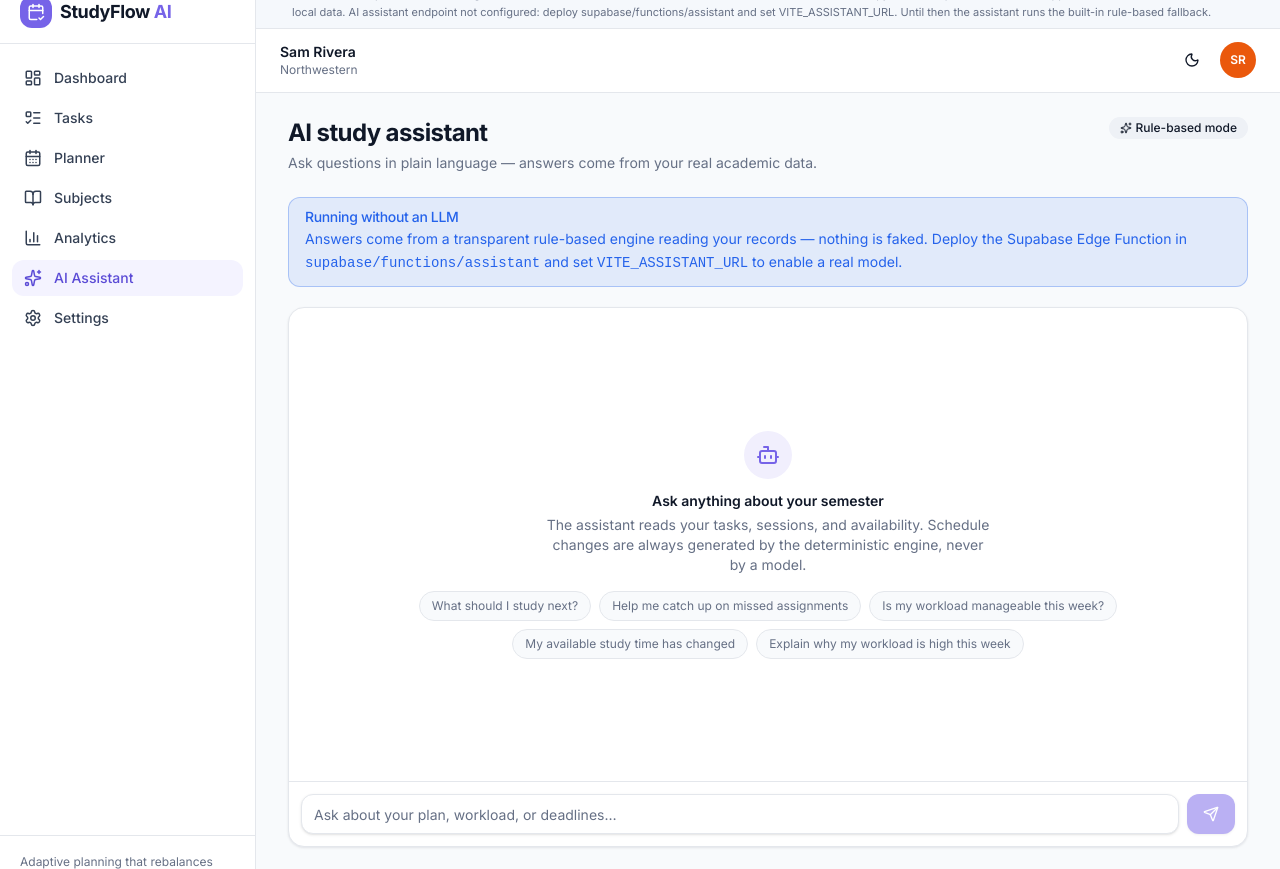
Test: modes and resilience › scenario 16a: the assistant falls back to rule-based answers when no AI endpoint is configured
This screenshot has width=1280, height=869.
Check: the text "Rule-based mode" is shown, box [1108,117,1248,139]
In the field named "Message the assistant": [740, 814] box [301,794,1179,834], type "How is my workload this week?"
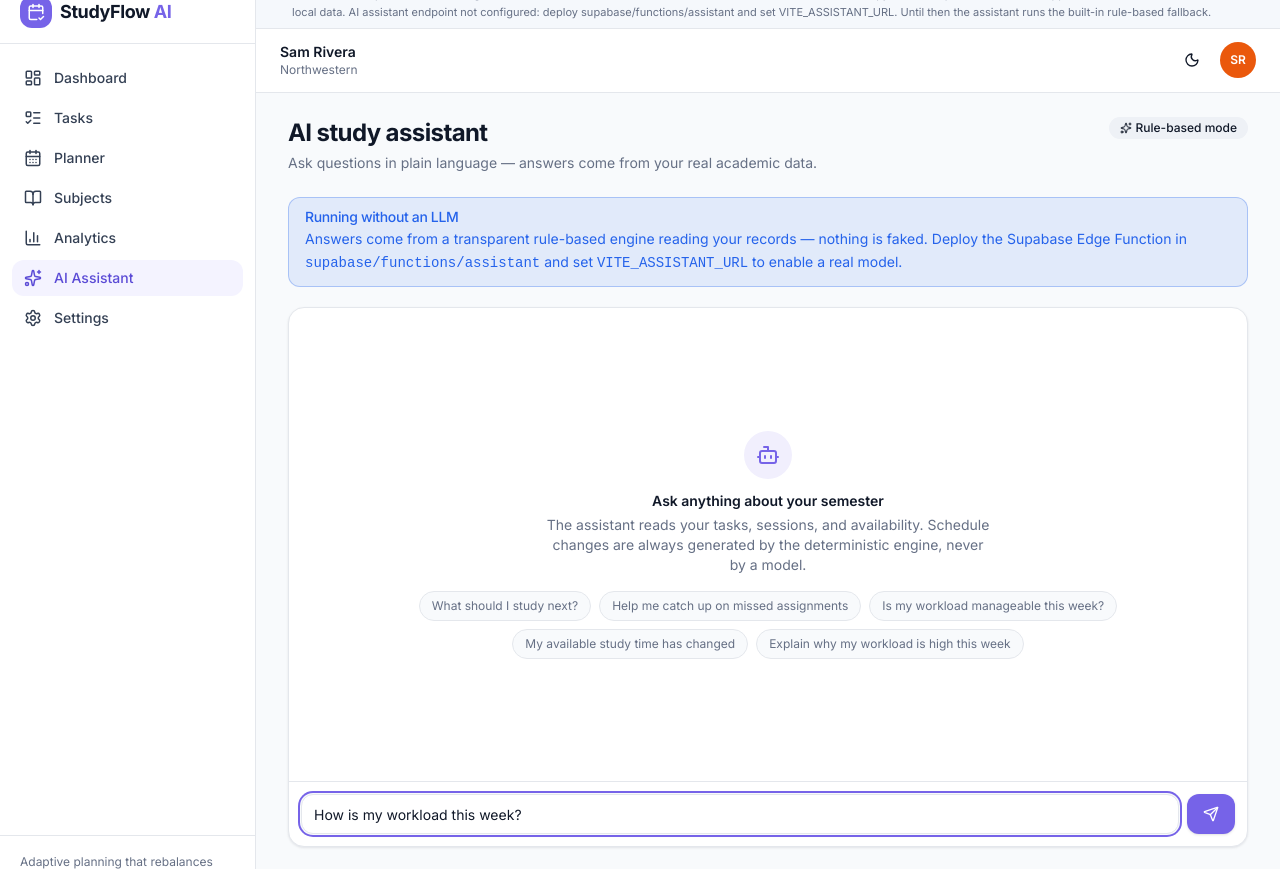
Click the button named "Send message": [1211, 814] box [1187,794,1235,834]
(page scrolled)
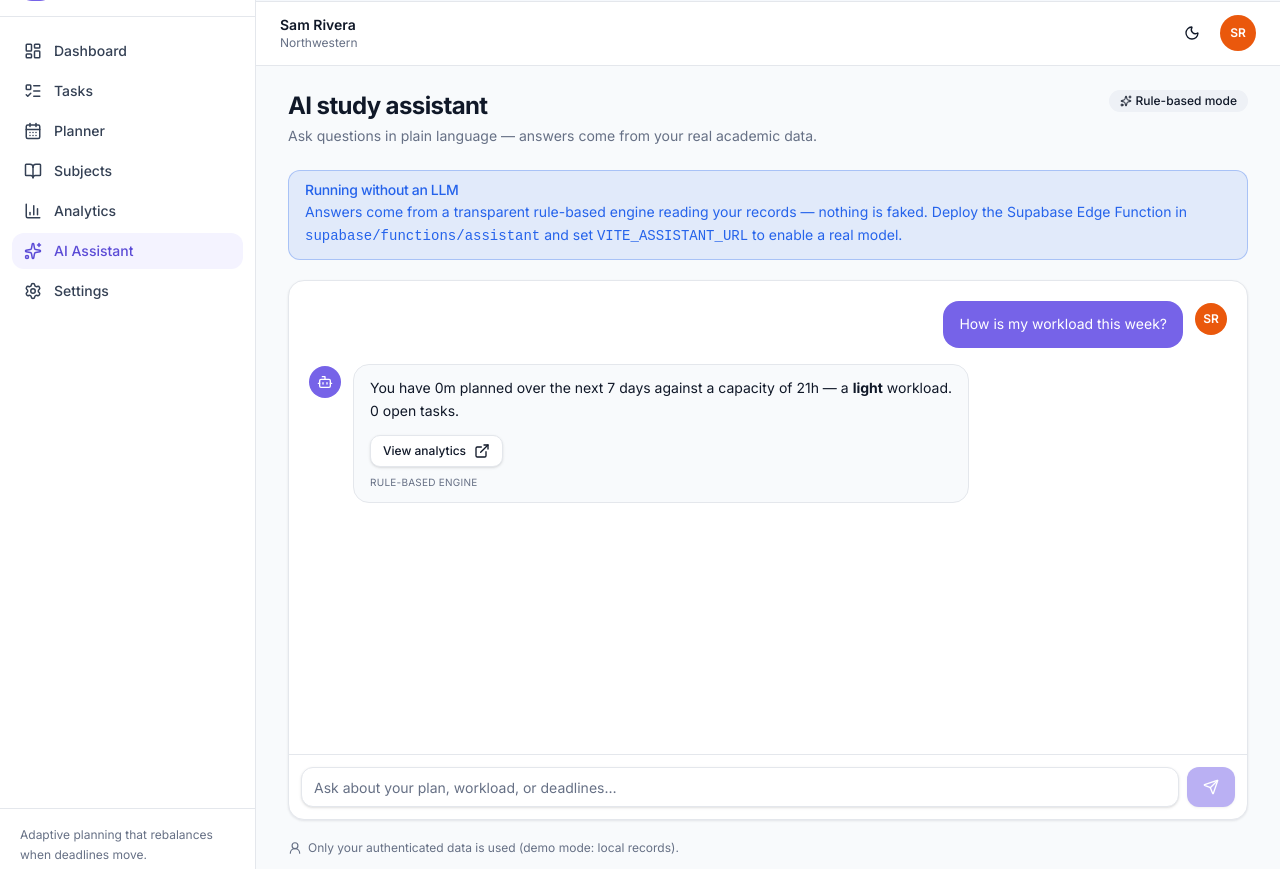
Check: the text "Rule-based engine" is shown, box [370,476,478,488]
Check: the text "How is my workload this week?" is shown, box [960,315,1167,332]
